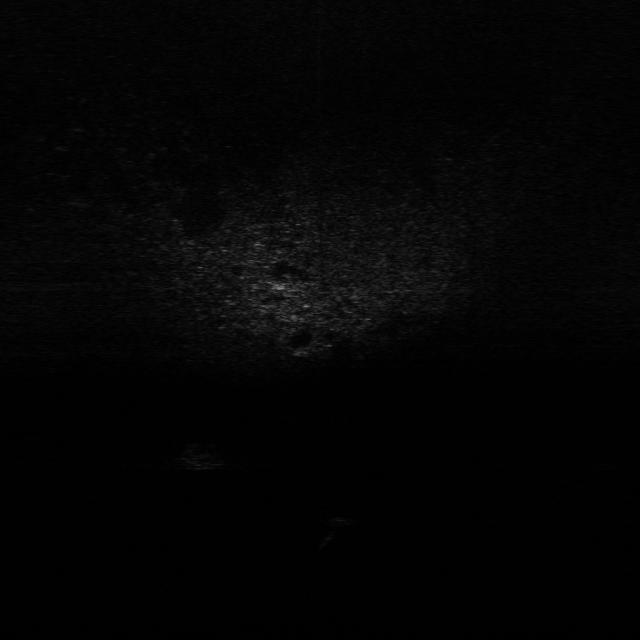circle cage: (183, 437, 233, 473)
cylinder: (324, 514, 346, 556)
